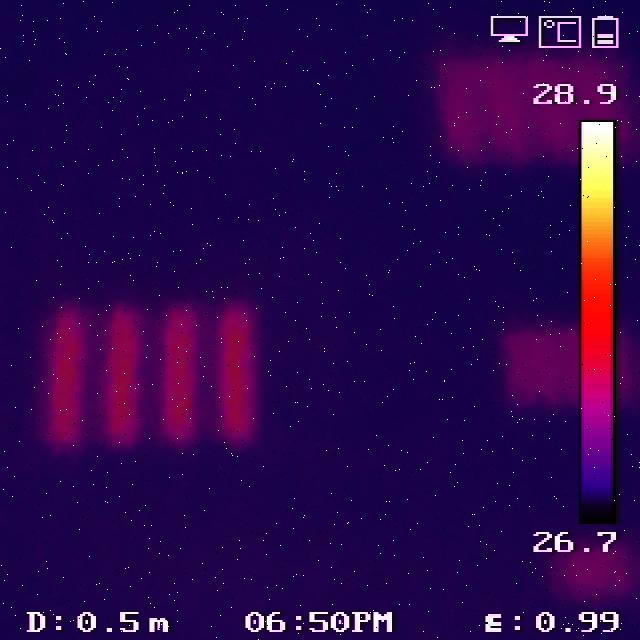Distinguishable 4-bar target: (33, 292, 264, 449)
Indistinguishable 4-bar target: (490, 305, 640, 413), (551, 536, 637, 599)
threshold 4-bar target: (418, 41, 638, 170)
